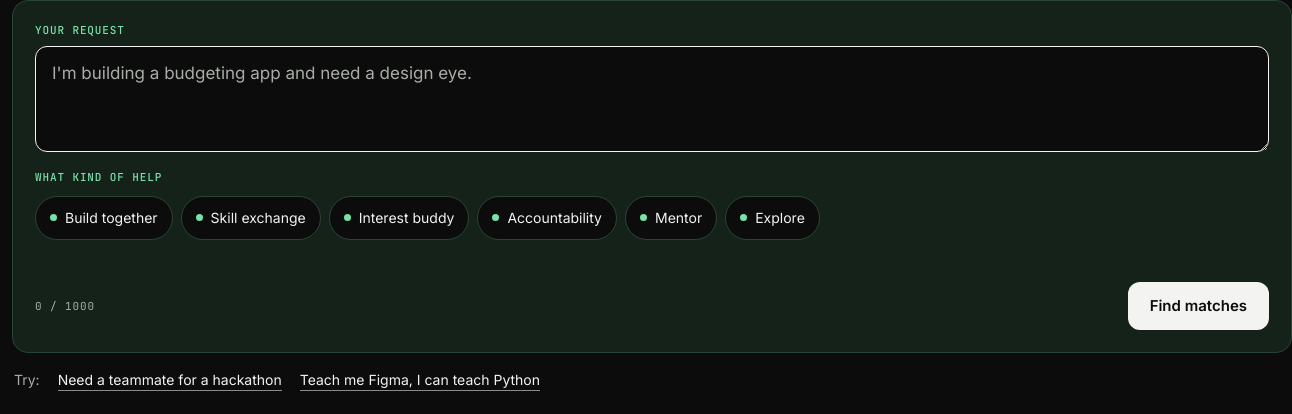
it: HomeComposer › starts collapsed on phones and opens on focus, with every intent and the counter
Click the text box named "Describe it in your own words" at (652, 99), box [36,47,1268,151]
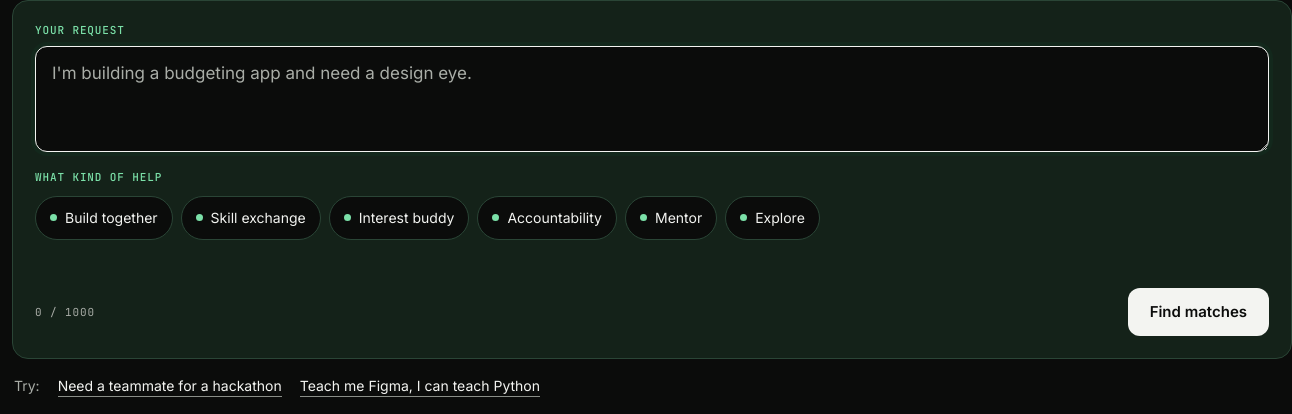
Expected: the buttons read "Build together", "Skill exchange", "Interest buddy", "Accountability", "Mentor", "Explore", in this order, [35,196,173,240]; [181,196,321,240]; [329,196,469,240]; [477,196,617,240]; [625,196,717,240]; [725,196,820,240]
Expected: the form named "New request" has attribute data-open="true"
Type keys "learn React"
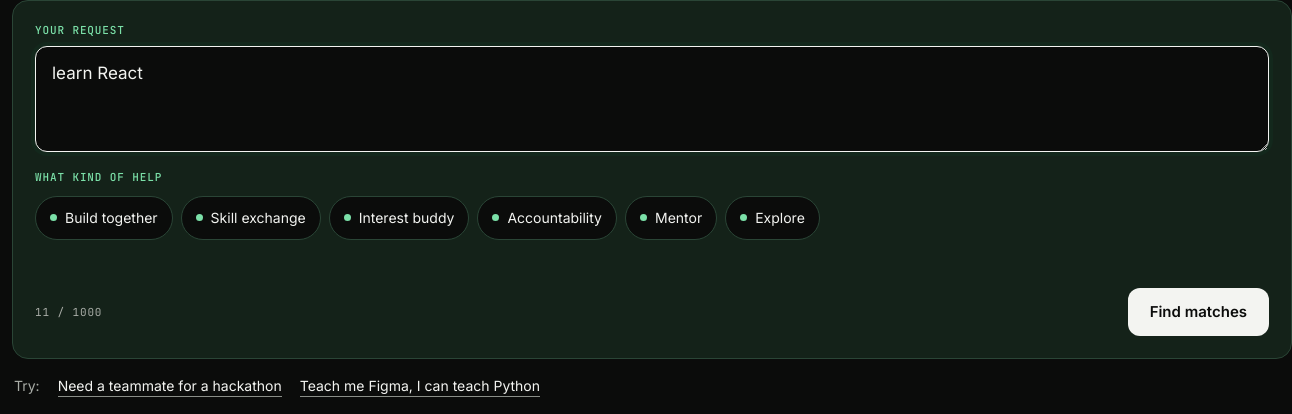
Expected: the text "11 / 1000" is shown, [35,304,102,320]
